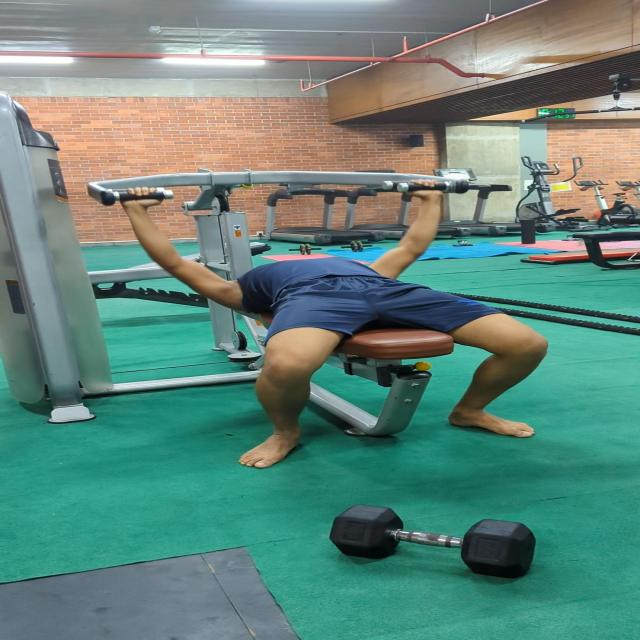Normal_BrenchPress: (110, 169, 584, 480)
